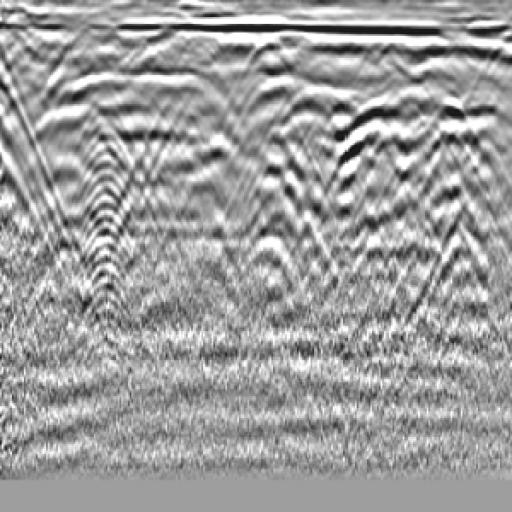metalic: (103, 55, 255, 131)
